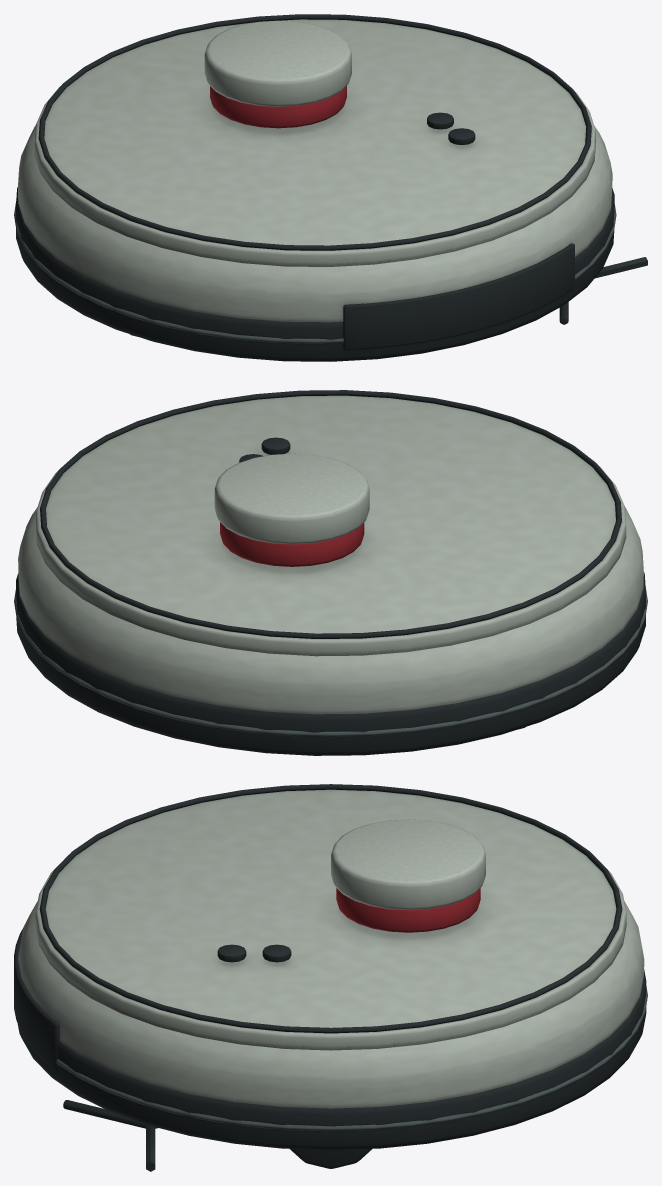
File: robot_vacuum.glb
The picture shows the model from 3 angles, top to bottom: view 1: azimuth 30°, elevation 25°; view 2: azimuth 150°, elevation 25°; view 3: azimuth 270°, elevation 25°; orthographic projection. The views are drawn at different scales.
Visible parts, largest first — view 1: robot_vacuum_static_0, robot_vacuum_lidar_1, robot_vacuum_brush_4; view 2: robot_vacuum_static_0, robot_vacuum_lidar_1; view 3: robot_vacuum_static_0, robot_vacuum_lidar_1, robot_vacuum_brush_4, robot_vacuum_drive_right_3.
Part boxes in pixels (bbox=[...]): robot_vacuum_static_0: bbox=[14, 14, 616, 361]; robot_vacuum_lidar_1: bbox=[204, 20, 351, 128]; robot_vacuum_brush_4: bbox=[559, 257, 647, 324]; robot_vacuum_static_0: bbox=[14, 390, 647, 755]; robot_vacuum_lidar_1: bbox=[214, 453, 369, 566]; robot_vacuum_static_0: bbox=[14, 784, 647, 1150]; robot_vacuum_lidar_1: bbox=[331, 819, 485, 932]; robot_vacuum_brush_4: bbox=[63, 1100, 157, 1171]; robot_vacuum_drive_right_3: bbox=[290, 1149, 371, 1168].
Size of the model in its own units: 0.3517 by 0.1376 by 0.3517.
Materials: 2 (1 with a texture image).
